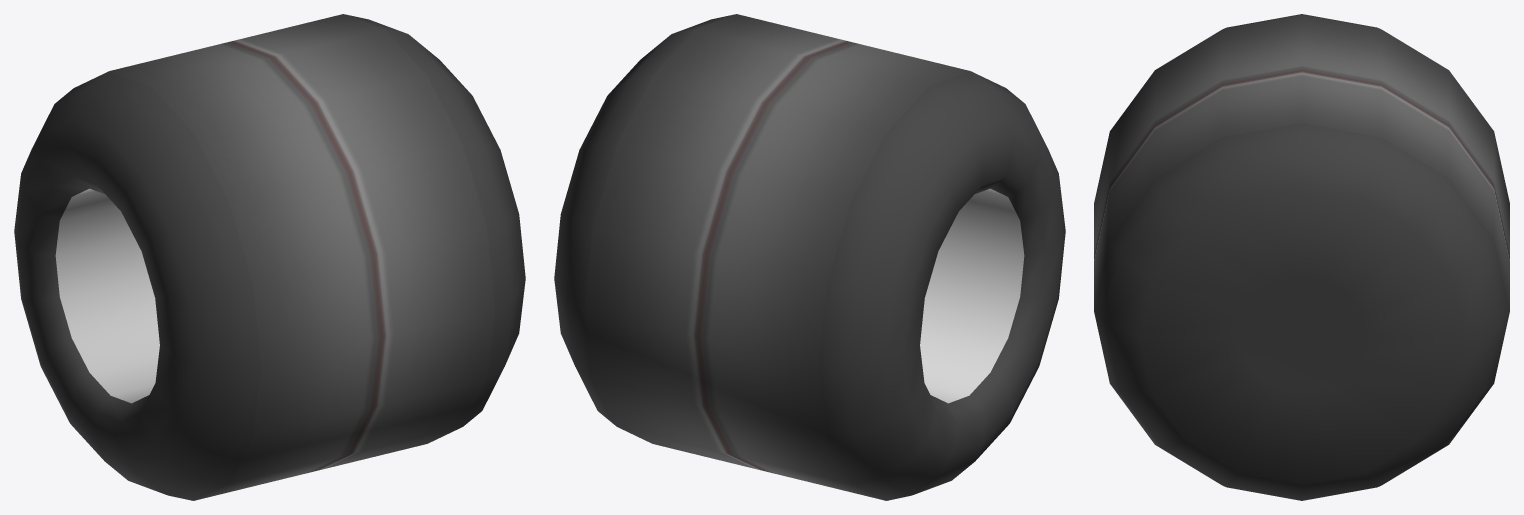
Rendered from front-left.glb.
The picture shows the model from 3 angles, left to right: view 1: azimuth 30°, elevation 25°; view 2: azimuth 150°, elevation 25°; view 3: azimuth 270°, elevation 25°; orthographic projection. The views are drawn at different scales.
Size of the model in its own units: 0.1978 by 0.2198 by 0.2198.
1 material, 1 textured.
